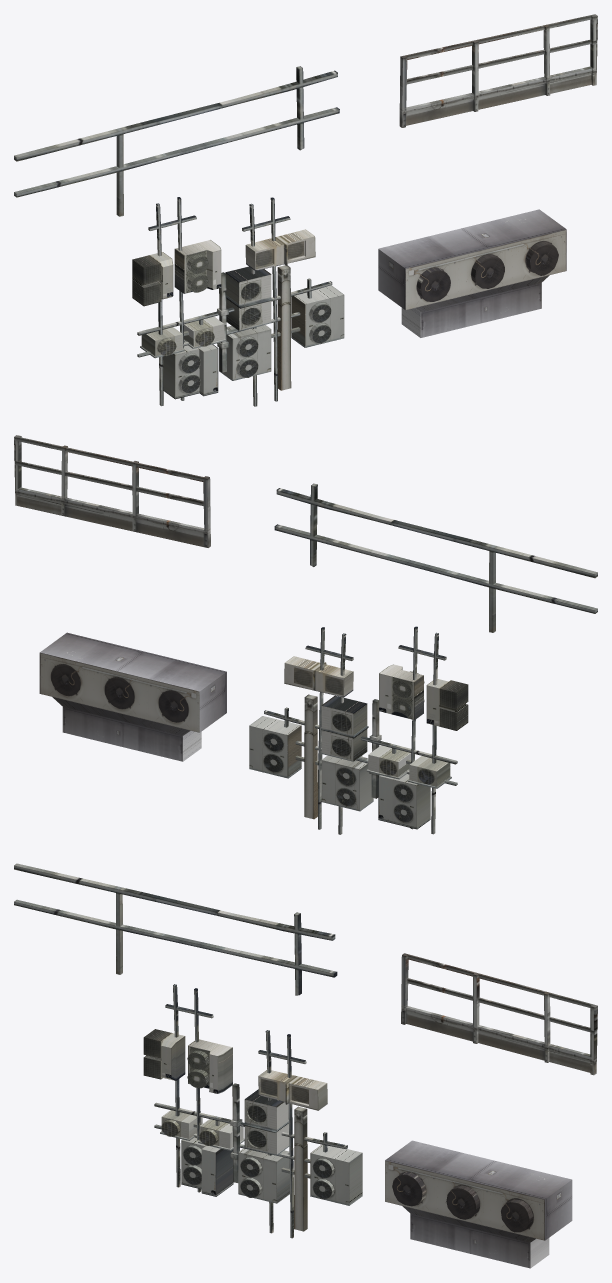
The model's file is ACProps.fbx.
3 views of the same model, one above another, from view 1: azimuth 30°, elevation 25°; view 2: azimuth 150°, elevation 25°; view 3: azimuth 330°, elevation 25° (orthographic).
Parts seen in each view (by area): view 1: TCom_Aircos0061_M.002, TCom_Aircos0137_M.001, TCom_Buildings0119_M.001, TCom_Aircos0061_M.009, TCom_Aircos0061_M.006, TCom_Aircos0061_M.004, TCom_Aircos0061_M.007, TCom_Aircos0061_M.003, TCom_Aircos0061_M.005; view 2: TCom_Aircos0061_M.002, TCom_Aircos0137_M.001, TCom_Buildings0119_M.001, TCom_Aircos0061_M.009, TCom_Aircos0061_M.006, TCom_Aircos0061_M.004, TCom_Aircos0061_M.007, TCom_Aircos0061_M.003, TCom_Aircos0061_M.005; view 3: TCom_Aircos0061_M.002, TCom_Aircos0137_M.001, TCom_Buildings0119_M.001, TCom_Aircos0061_M.009, TCom_Aircos0061_M.006, TCom_Aircos0061_M.004, TCom_Aircos0061_M.007, TCom_Aircos0061_M.003, TCom_Aircos0061_M.005.
Boxes of the visible parts, x1,y1,x2,y2 form: TCom_Aircos0061_M.002: (132,229,344,399); TCom_Aircos0137_M.001: (378,209,566,337); TCom_Buildings0119_M.001: (399,14,597,127); TCom_Aircos0061_M.009: (14,66,339,216); TCom_Aircos0061_M.006: (277,265,291,390); TCom_Aircos0061_M.004: (242,197,300,406); TCom_Aircos0061_M.007: (148,197,196,406); TCom_Aircos0061_M.003: (137,278,332,357); TCom_Aircos0061_M.005: (217,272,229,372); TCom_Aircos0061_M.002: (249,656,468,829); TCom_Aircos0137_M.001: (39,632,226,761); TCom_Buildings0119_M.001: (14,435,210,547); TCom_Aircos0061_M.009: (274,483,597,632); TCom_Aircos0061_M.006: (304,694,317,819); TCom_Aircos0061_M.004: (295,627,353,834); TCom_Aircos0061_M.007: (398,626,446,834); TCom_Aircos0061_M.003: (264,707,457,785); TCom_Aircos0061_M.005: (369,699,381,798); TCom_Aircos0061_M.002: (143,1029,362,1205); TCom_Aircos0137_M.001: (385,1140,572,1268); TCom_Buildings0119_M.001: (401,953,597,1075); TCom_Aircos0061_M.009: (14,863,337,995); TCom_Aircos0061_M.006: (294,1106,307,1231); TCom_Aircos0061_M.004: (258,1030,310,1238); TCom_Aircos0061_M.007: (165,984,213,1192); TCom_Aircos0061_M.003: (154,1102,347,1162); TCom_Aircos0061_M.005: (230,1083,242,1182).
Bounding box in the file's own units: 181 × 99.64 × 16.75.
